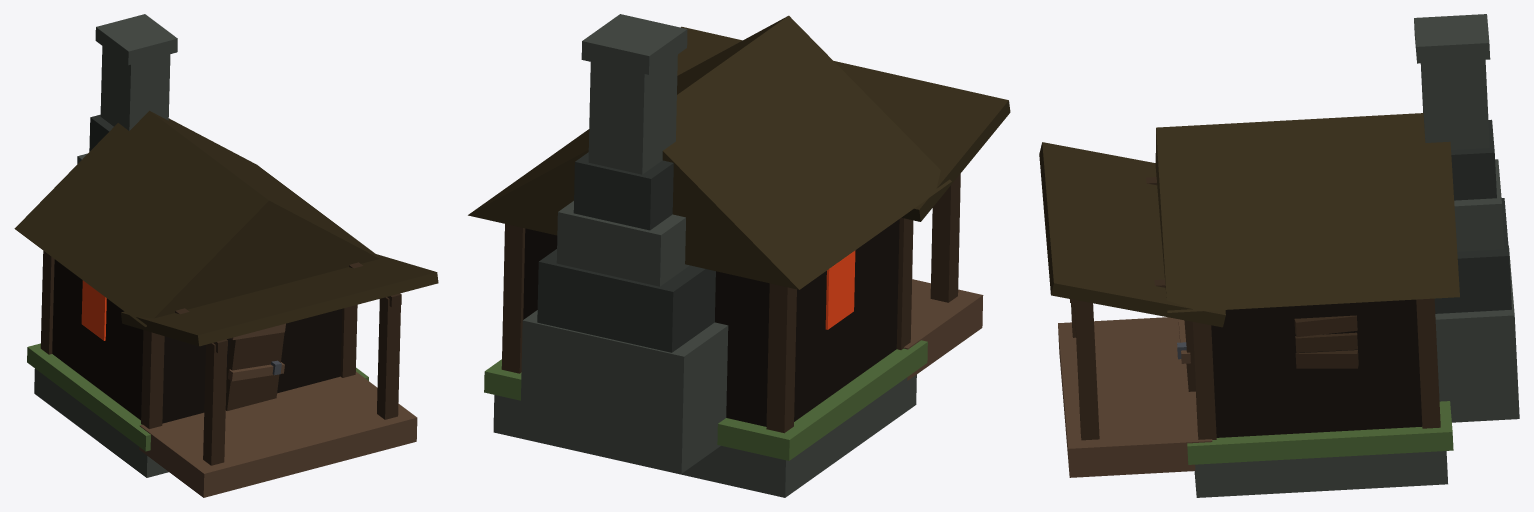
Rendered from cottage.obj.
3 renders of one model, left to right at view 1: azimuth 30°, elevation 25°; view 2: azimuth 150°, elevation 25°; view 3: azimuth 270°, elevation 25°, orthographic. The views are drawn at different scales.
Visible parts, largest first — view 1: cottage; view 2: cottage; view 3: cottage.
Boxes of the visible parts, x1,y1,x2,y2 form: cottage: (14, 14, 438, 497); cottage: (468, 14, 1010, 497); cottage: (1039, 14, 1519, 497).
Size of the model in its own units: 1.53 by 1.94 by 2.1.
